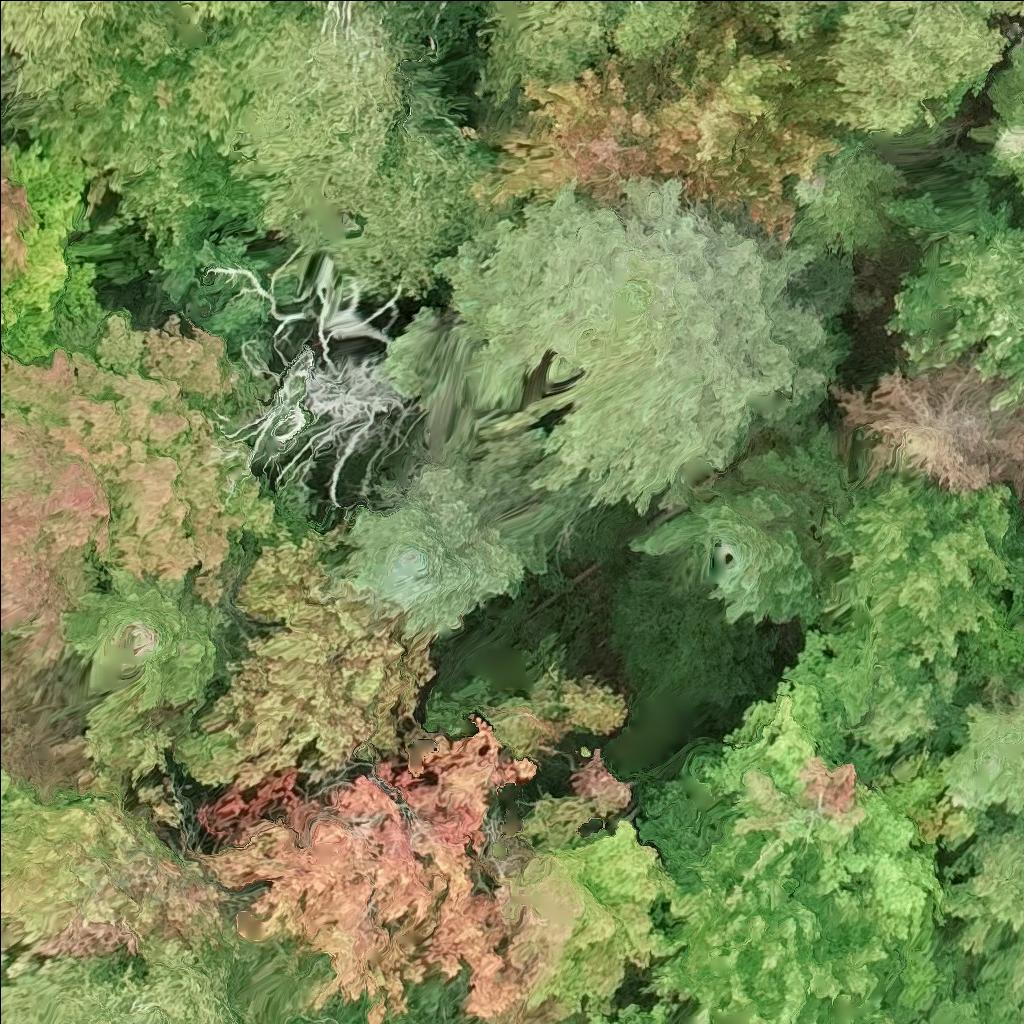crown: (788, 0, 1023, 125), (965, 32, 1023, 195)
